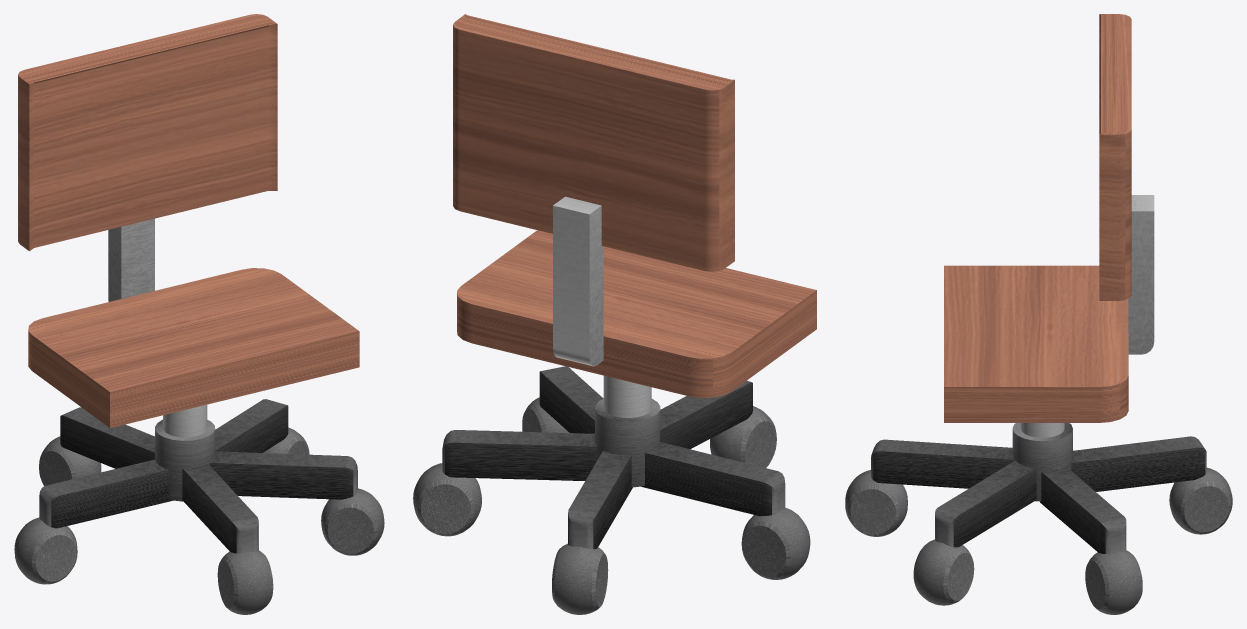
Rendered from Silla.obj.
The picture shows the model from 3 angles, left to right: view 1: azimuth 30°, elevation 25°; view 2: azimuth 150°, elevation 25°; view 3: azimuth 270°, elevation 25°; orthographic projection. The views are drawn at different scales.
Visible parts, largest first — view 1: pasted__group1_pasted__pasted__pCube1; view 2: pasted__group1_pasted__pasted__pCube1; view 3: pasted__group1_pasted__pasted__pCube1.
Part boxes in pixels (left/top/right/bottom): pasted__group1_pasted__pasted__pCube1: left=14, top=14, right=384, bottom=614; pasted__group1_pasted__pasted__pCube1: left=413, top=14, right=816, bottom=614; pasted__group1_pasted__pasted__pCube1: left=845, top=14, right=1232, bottom=614.
Bounding box in the file's own units: 0.8985 × 1.26 × 0.9379.
5 materials, 4 textured.
